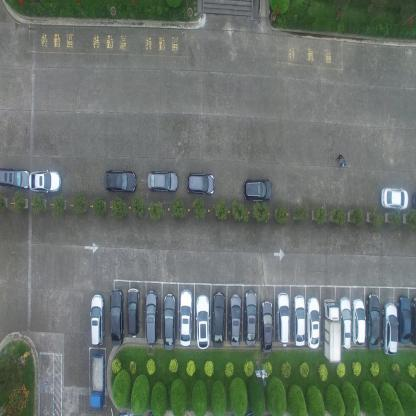car: (323, 296, 342, 364), (89, 351, 106, 409), (178, 288, 194, 346), (364, 293, 380, 351), (381, 301, 398, 355), (109, 288, 124, 348), (29, 167, 61, 195), (194, 293, 210, 348), (89, 292, 105, 346), (103, 169, 138, 193), (162, 291, 176, 351), (306, 294, 321, 350), (275, 292, 290, 347), (242, 176, 273, 202), (146, 168, 178, 193), (338, 294, 352, 350), (260, 300, 274, 355), (228, 292, 242, 347), (212, 290, 225, 349), (244, 289, 257, 347), (185, 170, 215, 195), (0, 166, 30, 191), (380, 185, 408, 211), (292, 294, 306, 346), (145, 289, 158, 345), (126, 286, 140, 338), (397, 295, 411, 344), (351, 298, 365, 346), (411, 295, 416, 347)
